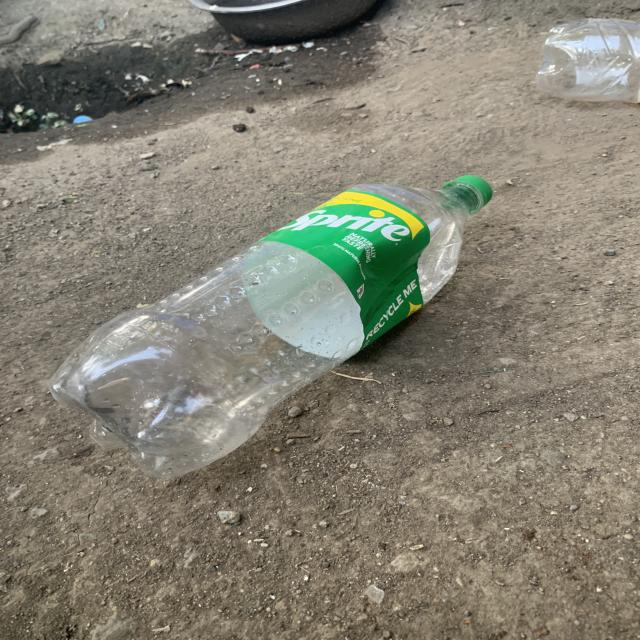Bottle: (51, 175, 493, 477)
